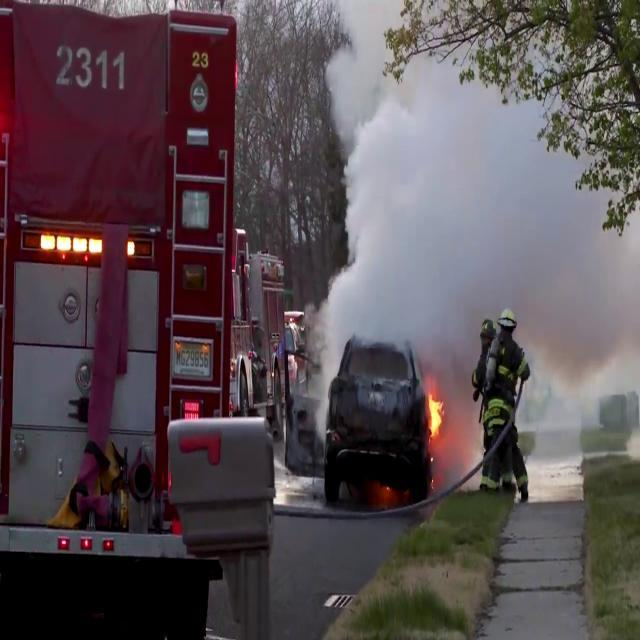Fire: (425, 384, 445, 446)
Smoke: (310, 6, 640, 396)
